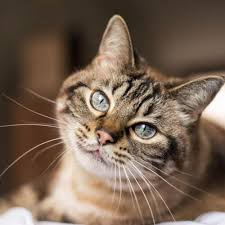Gato: (46, 9, 224, 182)
